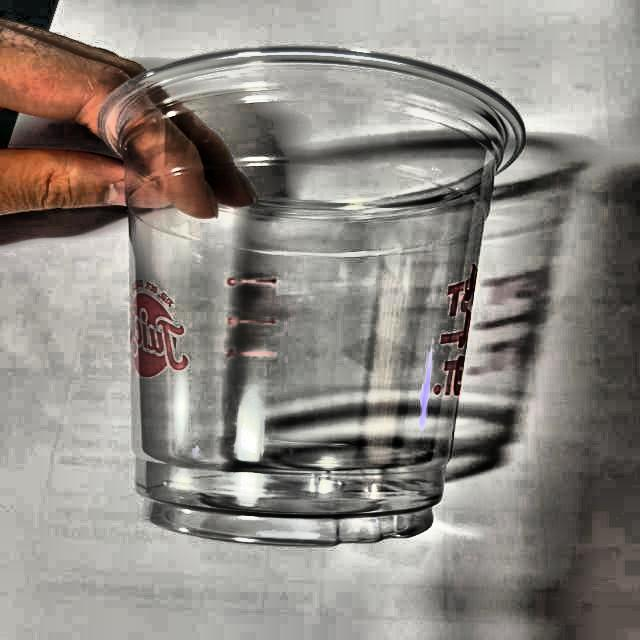plastic cup: (92, 44, 541, 554)
